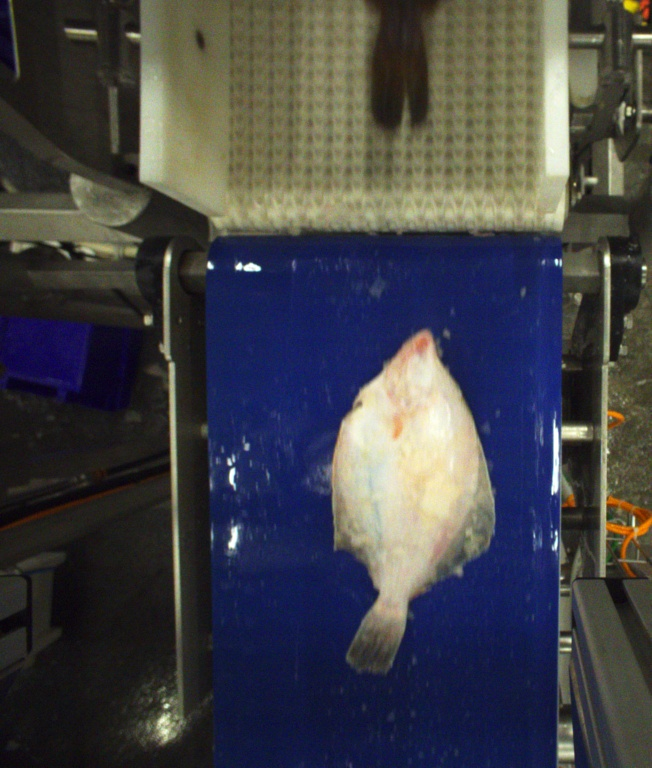PLE: (330, 331, 501, 678)
